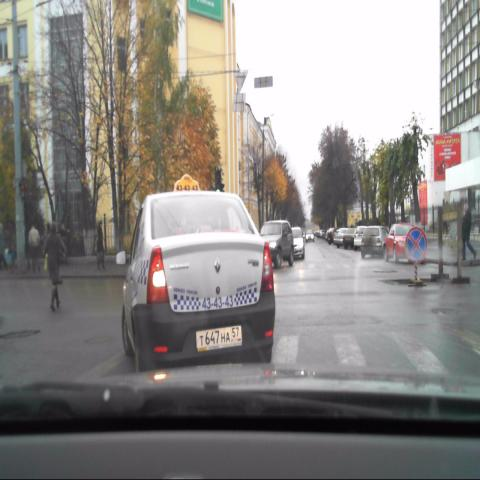3_27: (403, 225, 428, 265)
